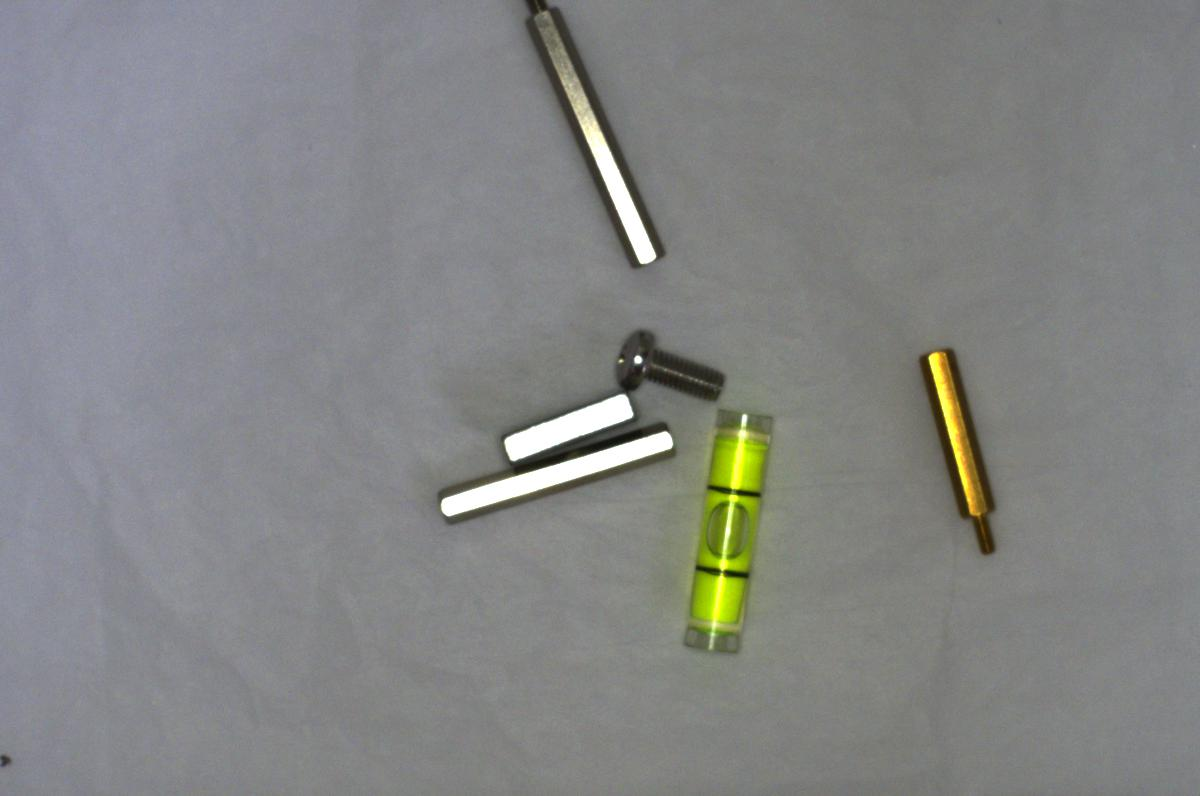Double hexagonal column: (415, 418, 681, 525)
Hexagon pillar: (914, 345, 1008, 561)
Hexagonal steel column: (518, 1, 666, 268)
Horizontal bubble: (674, 406, 785, 656)
Rectangular nut: (498, 388, 638, 465)
Round head screw: (607, 316, 738, 406)
